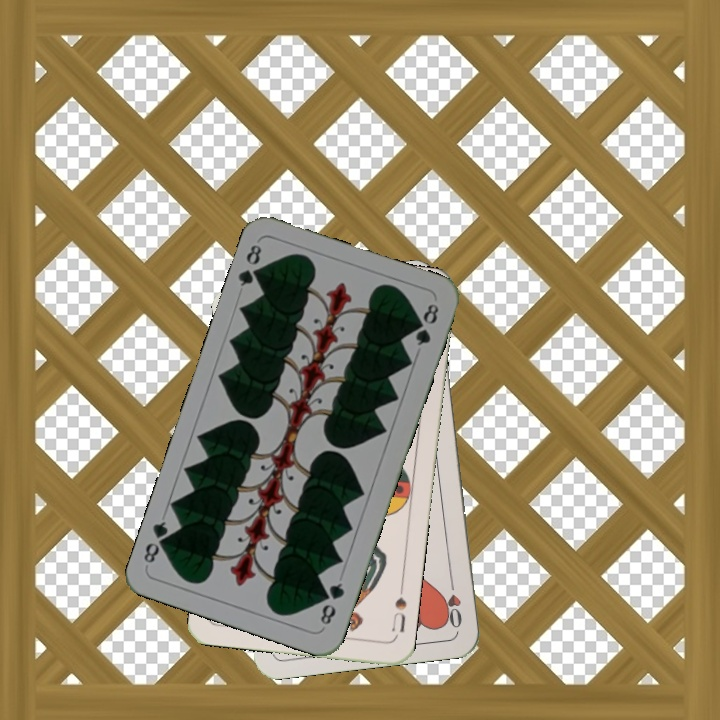G8: (234, 240, 266, 289), (316, 579, 347, 628)
HO: (440, 573, 465, 631)
SU: (388, 581, 409, 635)
